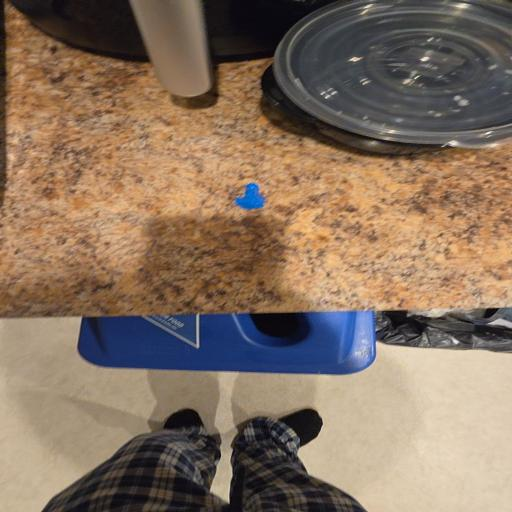Blue: (236, 183, 265, 209)
